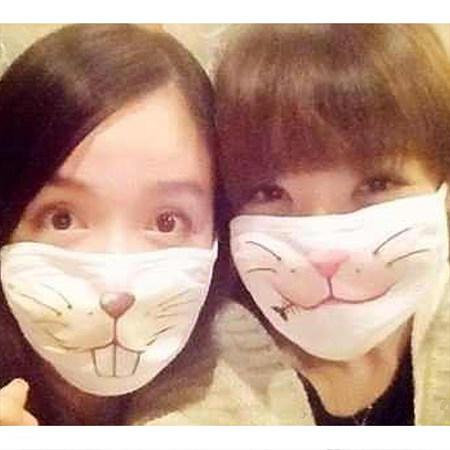OK: (1, 167, 214, 388), (229, 151, 448, 358)
